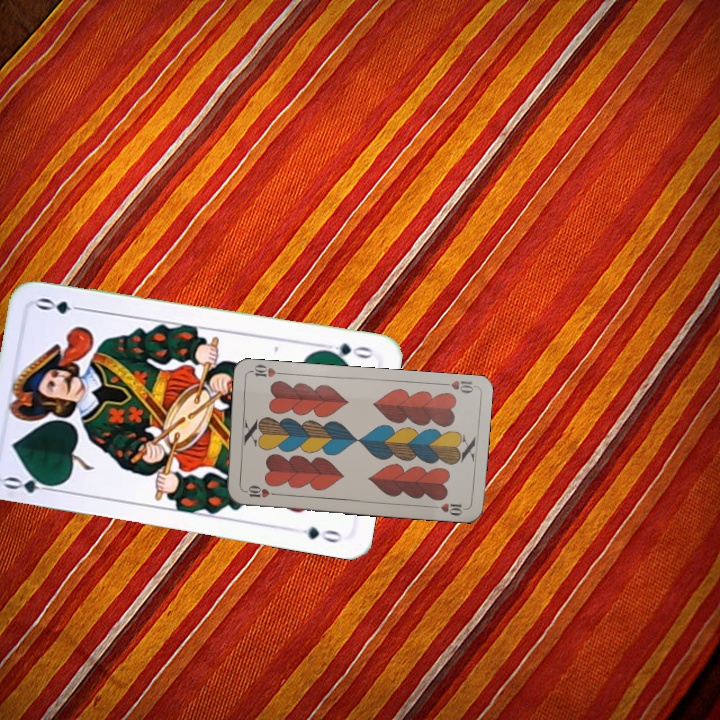GO: (1, 471, 61, 496), (317, 338, 376, 362)
H10: (436, 376, 477, 396), (239, 483, 280, 500)
